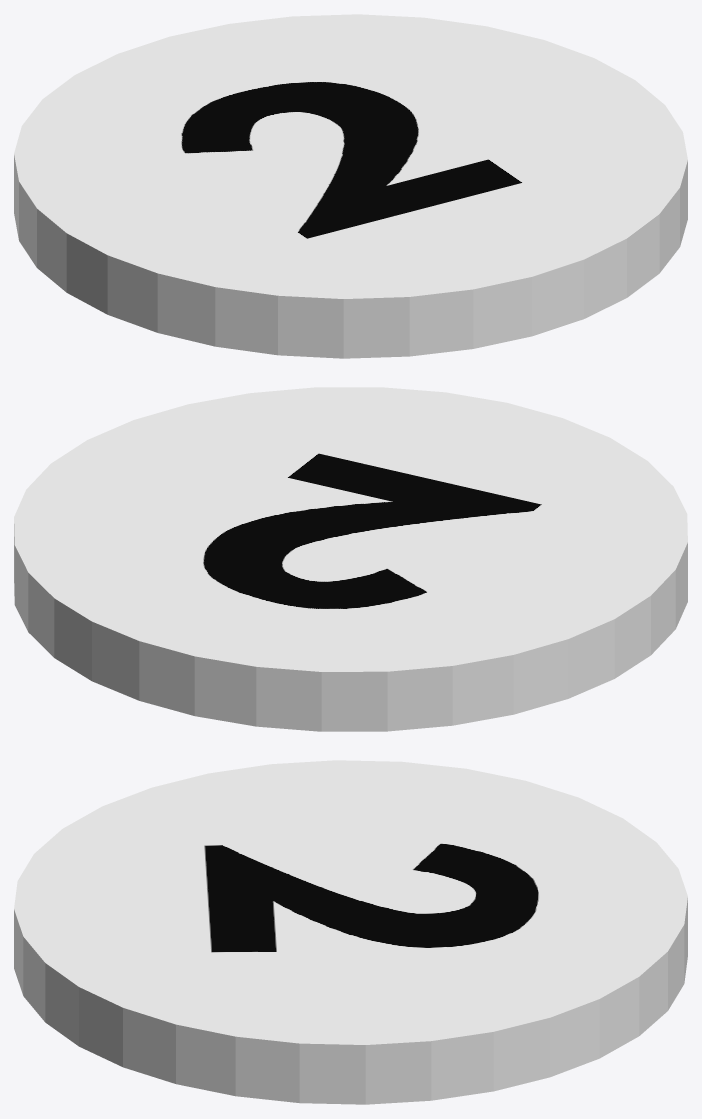
Rendered from Dua.fbx.
The picture shows the model from 3 angles, top to bottom: view 1: azimuth 30°, elevation 25°; view 2: azimuth 150°, elevation 25°; view 3: azimuth 270°, elevation 25°; orthographic projection.
Visible parts, largest first — view 1: Cylinder; view 2: Cylinder; view 3: Cylinder.
Boxes of the visible parts, x1,y1,x2,y2 form: Cylinder: (14,14,687,358); Cylinder: (14,387,687,731); Cylinder: (14,760,687,1104).
Size of the model in its own units: 243 by 23.72 by 243.
